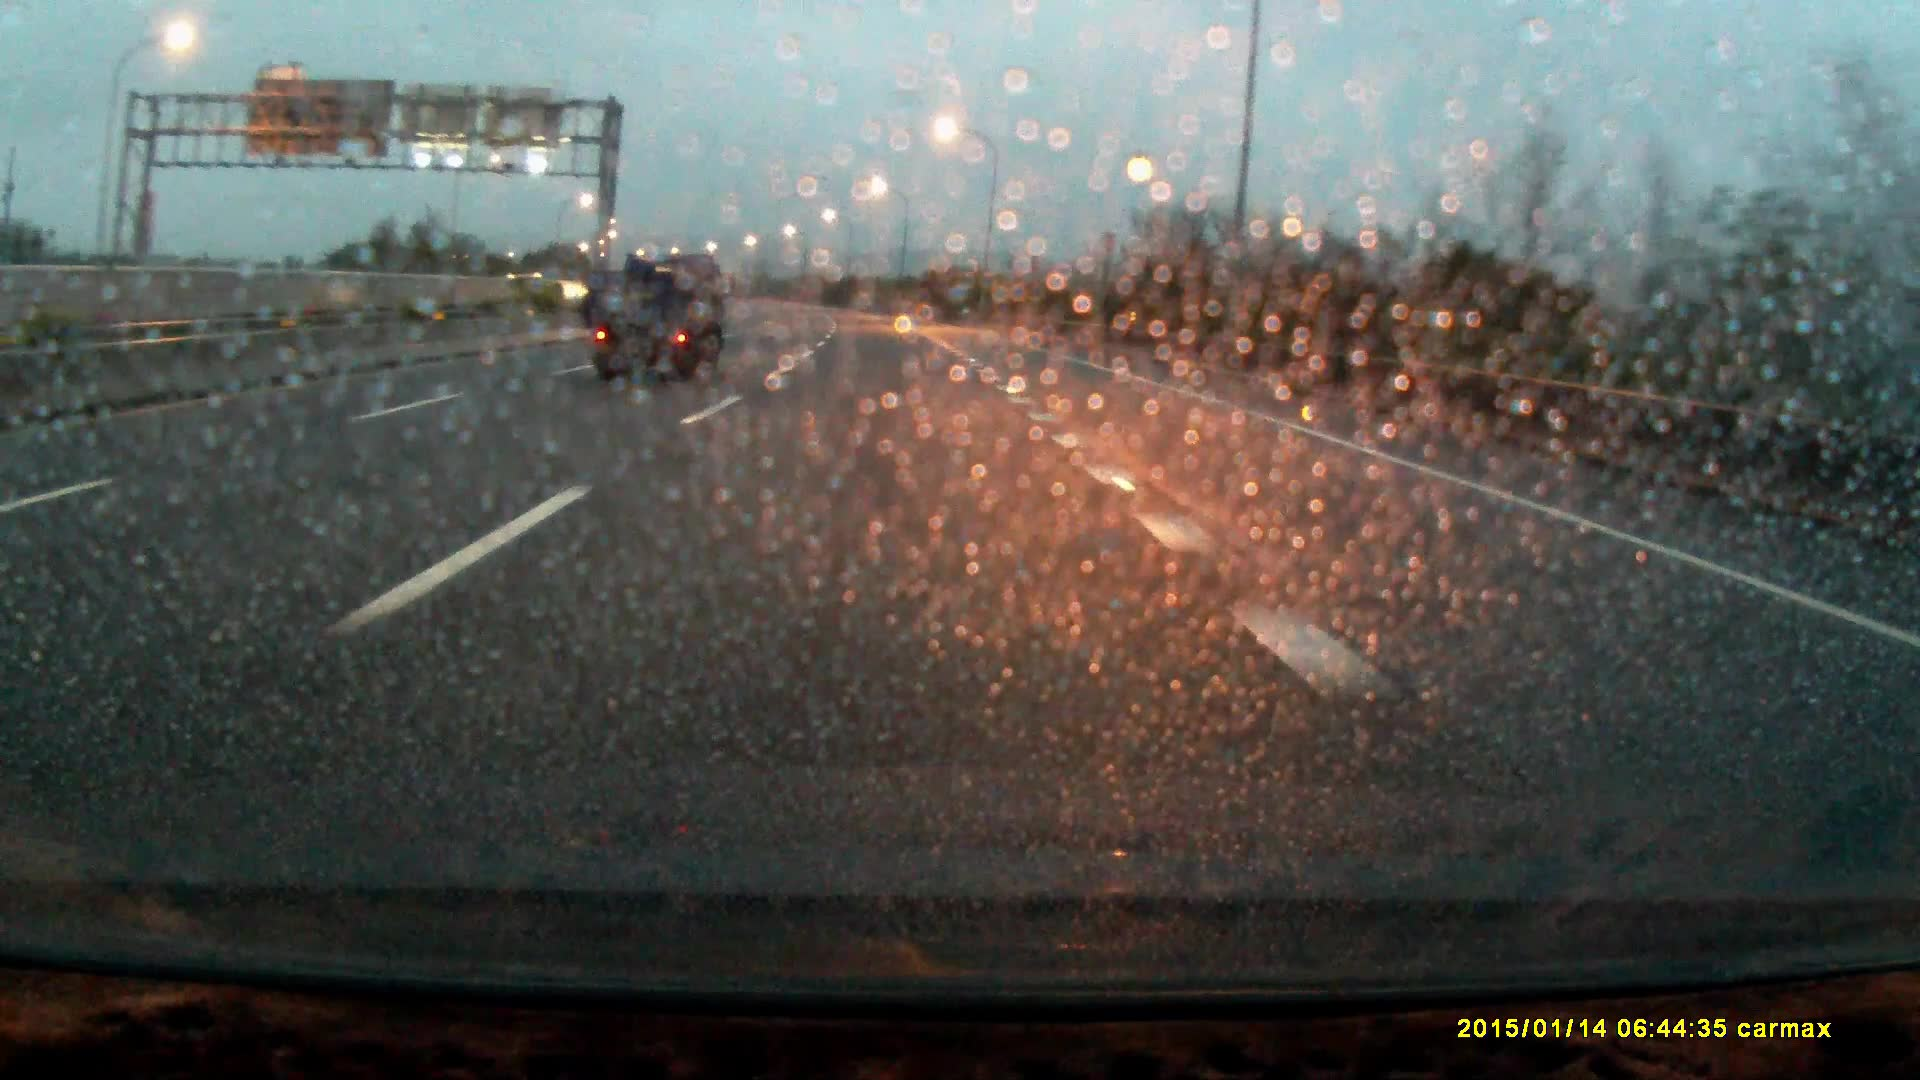vehicle: (587, 255, 729, 381), (506, 276, 578, 310)
